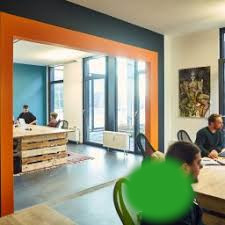focus: (116, 153, 197, 220)
